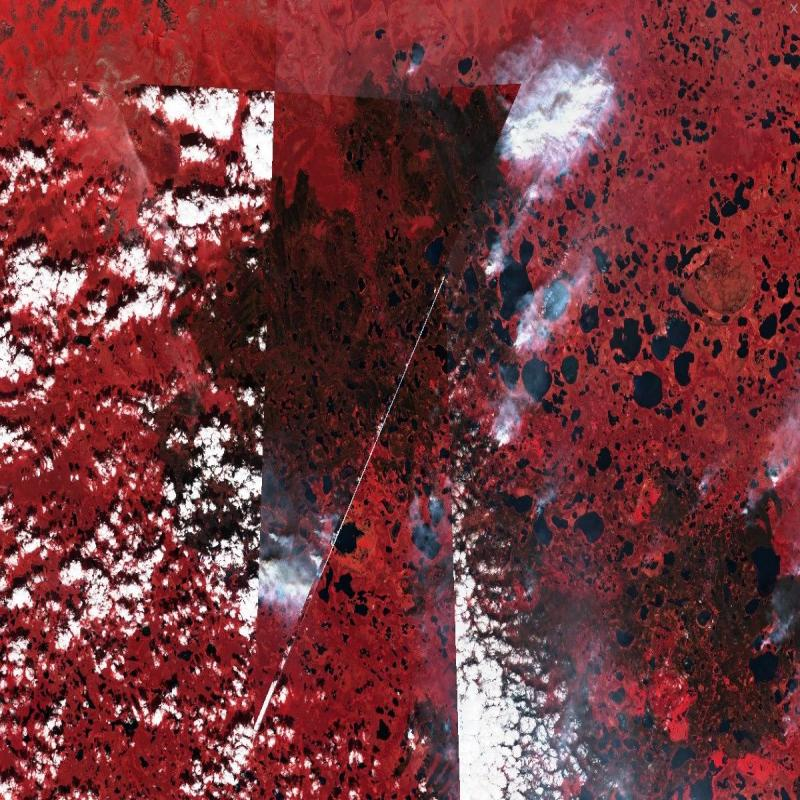fire: (461, 61, 562, 478), (229, 493, 350, 636), (753, 454, 800, 528)
